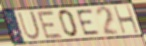0: (57, 9, 80, 39)
2: (96, 5, 122, 37)
E: (35, 10, 65, 40), (74, 8, 102, 37)
H: (113, 5, 141, 36)
U: (16, 10, 42, 41)
